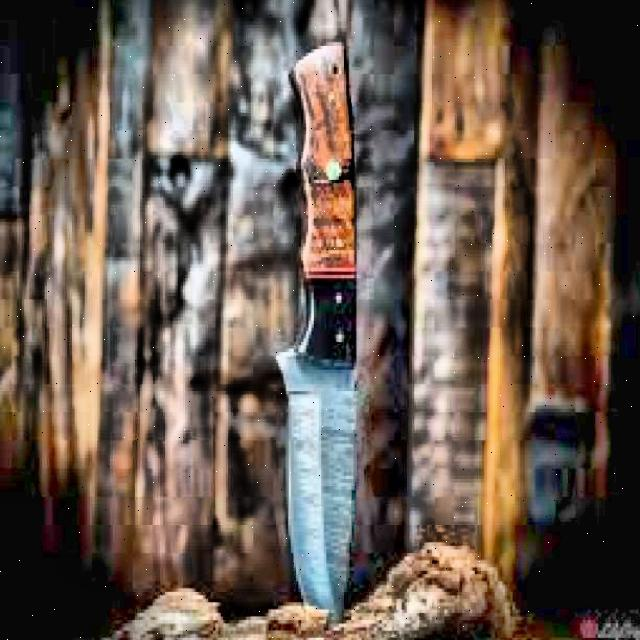knife: (275, 40, 372, 624)
